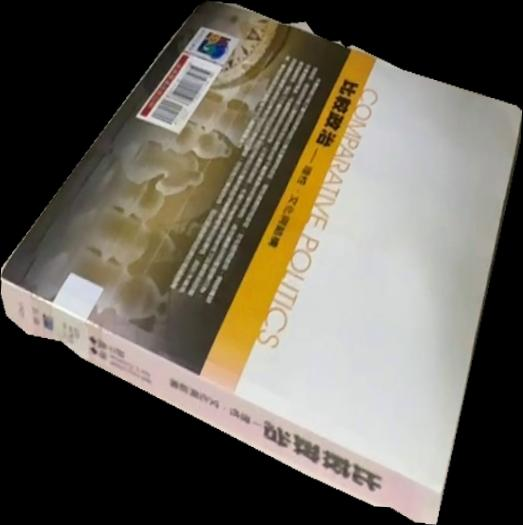flat: (1, 1, 523, 525)
